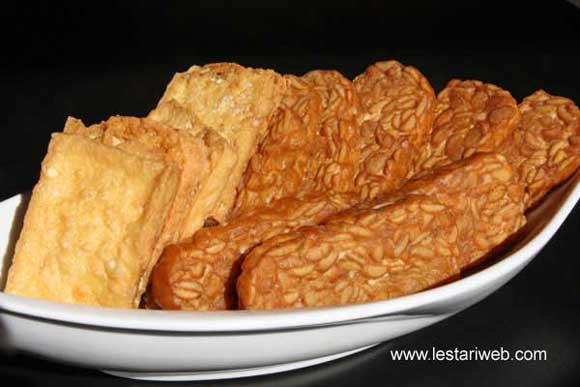Tempe: (244, 167, 527, 260), (514, 92, 573, 192)
